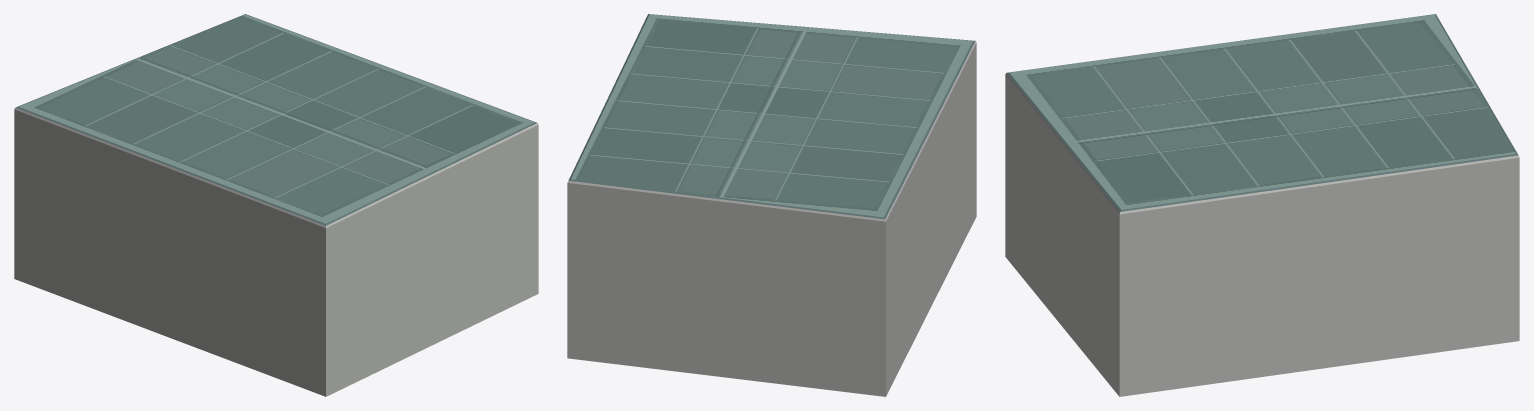
File: fragments.glb
3 views of the same model, side by side, from view 1: azimuth 30°, elevation 25°; view 2: azimuth 150°, elevation 25°; view 3: azimuth 270°, elevation 25° (orthographic). The views are drawn at different scales.
Visible parts, largest first — view 1: SM_gh42_Fragment_038, SM_gh42_Fragment_015, SM_gh42_Fragment_030, SM_gh42_Fragment_024, SM_gh42_Fragment_037, SM_gh42_Fragment_003, SM_gh42_Fragment_017, SM_gh42_Fragment_042, SM_gh42_Fragment_040, SM_gh42_Fragment_046, SM_gh42_Fragment_050, SM_gh42_Fragment_032 (+27 smaller); view 2: SM_gh42_Fragment_001, SM_gh42_Fragment_039, SM_gh42_Fragment_007, SM_gh42_Fragment_048, SM_gh42_Fragment_018, SM_gh42_Fragment_017, SM_gh42_Fragment_045, SM_gh42_Fragment_058, SM_gh42_Fragment_008, SM_gh42_Fragment_043, SM_gh42_Fragment_034, SM_gh42_Fragment_009 (+27 smaller); view 3: SM_gh42_Fragment_041, SM_gh42_Fragment_029, SM_gh42_Fragment_056, SM_gh42_Fragment_002, SM_gh42_Fragment_016, SM_gh42_Fragment_044, SM_gh42_Fragment_017, SM_gh42_Fragment_022, SM_gh42_Fragment_013, SM_gh42_Fragment_023, SM_gh42_Fragment_034, SM_gh42_Fragment_009 (+27 smaller).
Part boxes in pixels (left/top/right/bottom): SM_gh42_Fragment_038: left=41, top=103, right=133, bottom=216; SM_gh42_Fragment_015: left=108, top=130, right=212, bottom=242; SM_gh42_Fragment_030: left=432, top=134, right=516, bottom=243; SM_gh42_Fragment_024: left=30, top=200, right=116, bottom=315; SM_gh42_Fragment_037: left=280, top=261, right=357, bottom=368; SM_gh42_Fragment_003: left=230, top=169, right=339, bottom=271; SM_gh42_Fragment_017: left=200, top=89, right=335, bottom=151; SM_gh42_Fragment_042: left=158, top=145, right=262, bottom=224; SM_gh42_Fragment_040: left=282, top=189, right=370, bottom=268; SM_gh42_Fragment_046: left=340, top=164, right=448, bottom=249; SM_gh42_Fragment_050: left=164, top=217, right=245, bottom=304; SM_gh42_Fragment_032: left=299, top=312, right=409, bottom=396; SM_gh42_Fragment_001: left=808, top=191, right=895, bottom=318; SM_gh42_Fragment_039: left=610, top=164, right=719, bottom=268; SM_gh42_Fragment_007: left=606, top=276, right=722, bottom=373; SM_gh42_Fragment_048: left=714, top=178, right=836, bottom=249; SM_gh42_Fragment_018: left=727, top=246, right=841, bottom=318; SM_gh42_Fragment_017: left=717, top=82, right=863, bottom=139; SM_gh42_Fragment_045: left=741, top=312, right=851, bottom=388; SM_gh42_Fragment_058: left=567, top=202, right=634, bottom=300; SM_gh42_Fragment_008: left=820, top=309, right=900, bottom=396; SM_gh42_Fragment_043: left=634, top=238, right=733, bottom=317; SM_gh42_Fragment_034: left=755, top=135, right=872, bottom=187; SM_gh42_Fragment_009: left=662, top=132, right=769, bottom=192; SM_gh42_Fragment_041: left=1260, top=182, right=1385, bottom=317; SM_gh42_Fragment_029: left=1102, top=251, right=1220, bottom=359; SM_gh42_Fragment_056: left=1334, top=132, right=1451, bottom=240; SM_gh42_Fragment_002: left=1369, top=208, right=1493, bottom=327; SM_gh42_Fragment_016: left=1199, top=169, right=1297, bottom=265; SM_gh42_Fragment_044: left=1191, top=317, right=1315, bottom=386; SM_gh42_Fragment_017: left=1181, top=70, right=1338, bottom=124; SM_gh42_Fragment_022: left=1317, top=296, right=1441, bottom=369; SM_gh42_Fragment_013: left=1100, top=185, right=1178, bottom=276; SM_gh42_Fragment_023: left=1409, top=126, right=1519, bottom=208; SM_gh42_Fragment_034: left=1280, top=47, right=1408, bottom=101; SM_gh42_Fragment_009: left=1338, top=78, right=1468, bottom=133.
Size of the model in its own units: 2.01 by 0.8786 by 2.2.
4 materials, 1 textured.
